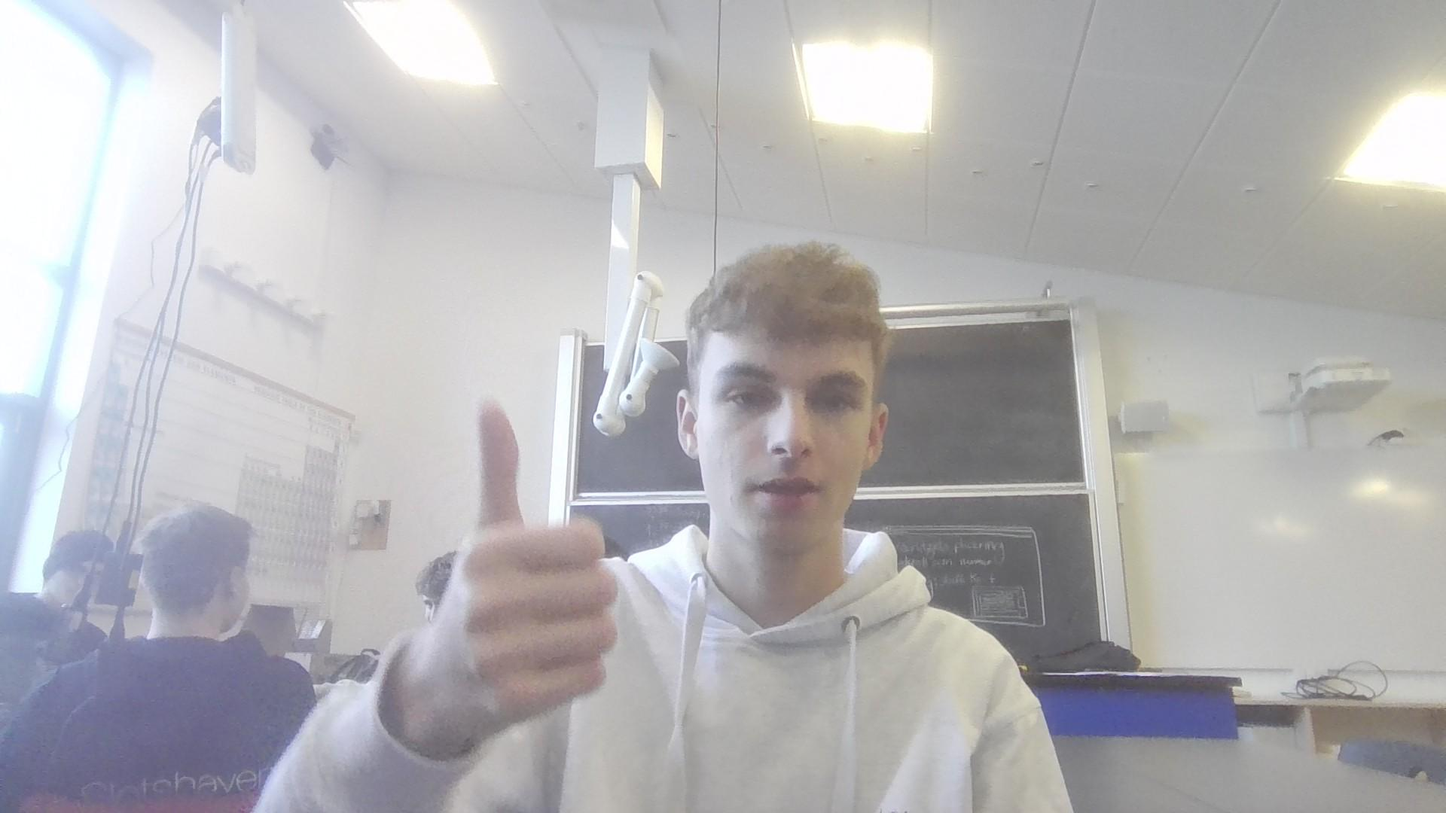thumbs up: (410, 381, 618, 758)
